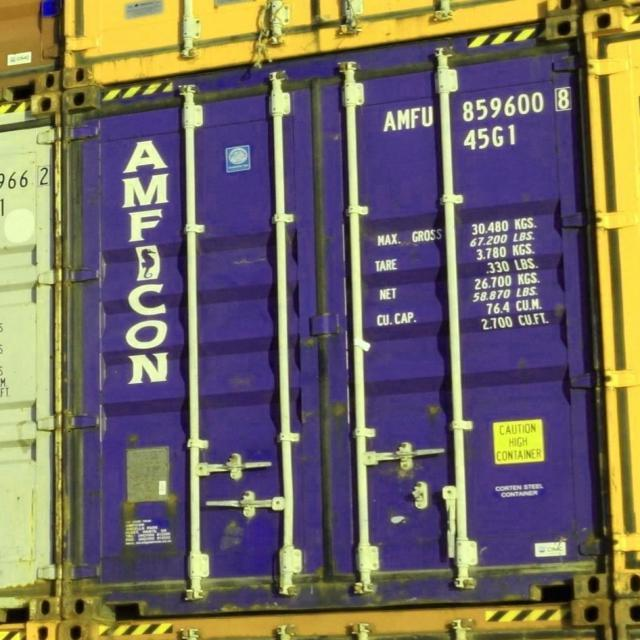ISO: (465, 125, 519, 148)
container_number: (382, 94, 562, 125)
